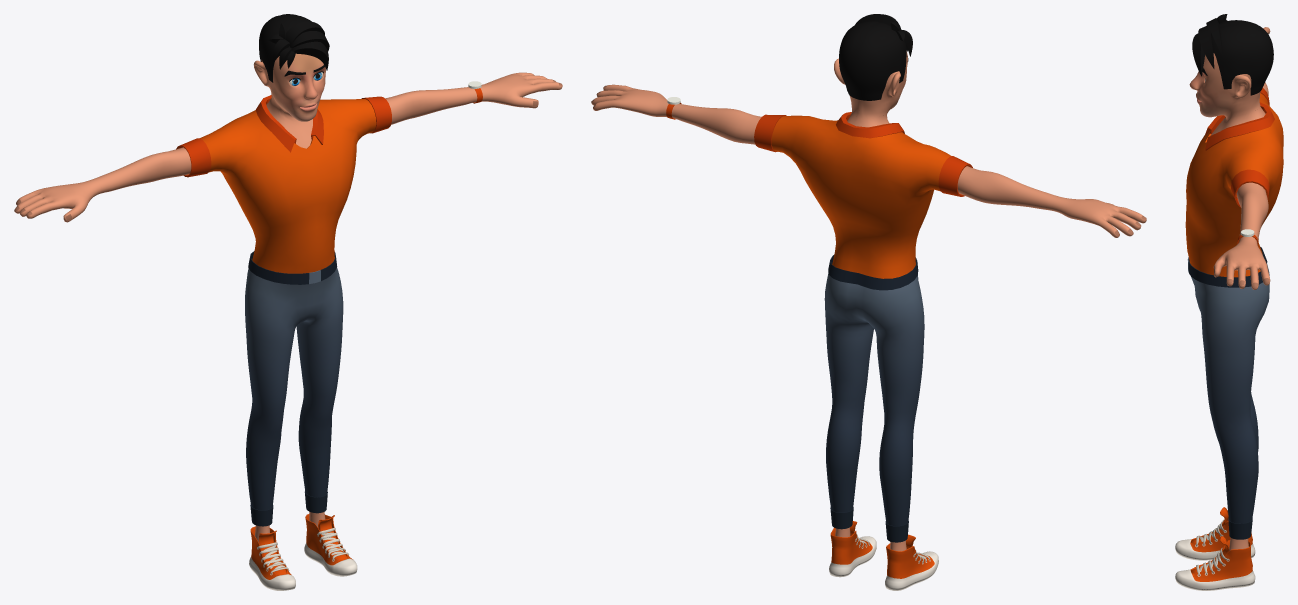
The model's file is Character_2.obj.
The picture shows the model from 3 angles, left to right: view 1: azimuth 30°, elevation 25°; view 2: azimuth 150°, elevation 25°; view 3: azimuth 270°, elevation 25°; orthographic projection.
Visible parts, largest first — view 1: D_1_mesh.001, D_2_mesh.004, Body_Vucud.006, Shoes_Cross_Shoelace.002, Hair_NurbsPath.009; view 2: D_2_mesh.004, D_1_mesh.001, Body_Vucud.006, Hair_NurbsPath.009, Shoes_Cross_Shoelace.002; view 3: D_2_mesh.004, D_1_mesh.001, Body_Vucud.006, Hair_NurbsPath.009, Shoes_Cross_Shoelace.002.
Part boxes in pixels (bbox=[...]): D_1_mesh.001: bbox=[176, 95, 391, 273]; D_2_mesh.004: bbox=[245, 251, 343, 526]; Body_Vucud.006: bbox=[14, 53, 562, 542]; Shoes_Cross_Shoelace.002: bbox=[249, 514, 357, 590]; Hair_NurbsPath.009: bbox=[259, 14, 329, 82]; D_2_mesh.004: bbox=[824, 255, 924, 542]; D_1_mesh.001: bbox=[754, 112, 972, 278]; Body_Vucud.006: bbox=[591, 51, 1146, 551]; Hair_NurbsPath.009: bbox=[839, 14, 912, 100]; Shoes_Cross_Shoelace.002: bbox=[829, 521, 938, 590]; D_2_mesh.004: bbox=[1187, 247, 1269, 539]; D_1_mesh.001: bbox=[1185, 88, 1283, 277]; Body_Vucud.006: bbox=[1189, 27, 1270, 550]; Hair_NurbsPath.009: bbox=[1192, 14, 1273, 95]; Shoes_Cross_Shoelace.002: bbox=[1175, 507, 1255, 590].
Size of the model in its own units: 7.98 by 7.81 by 1.39.
Materials: 3 (3 with a texture image).
